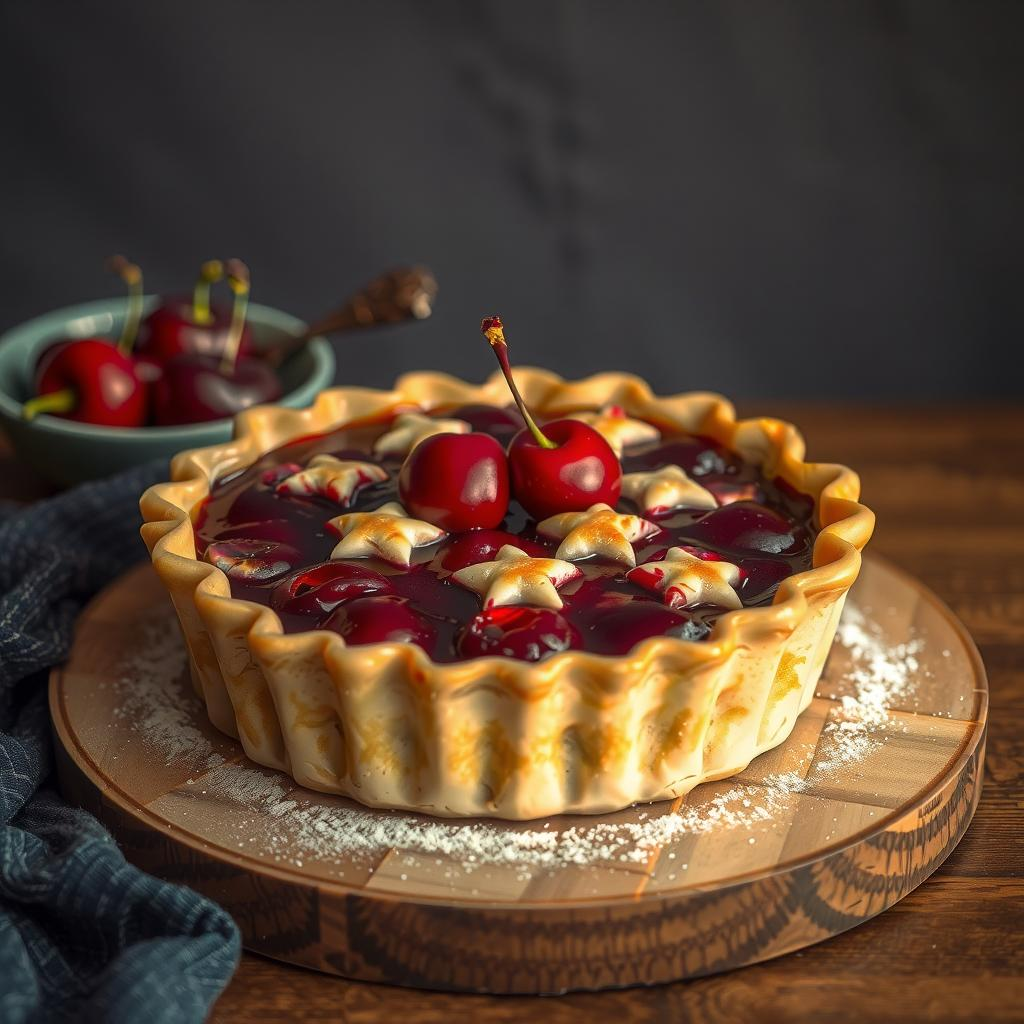pie: (129, 366, 903, 823)
